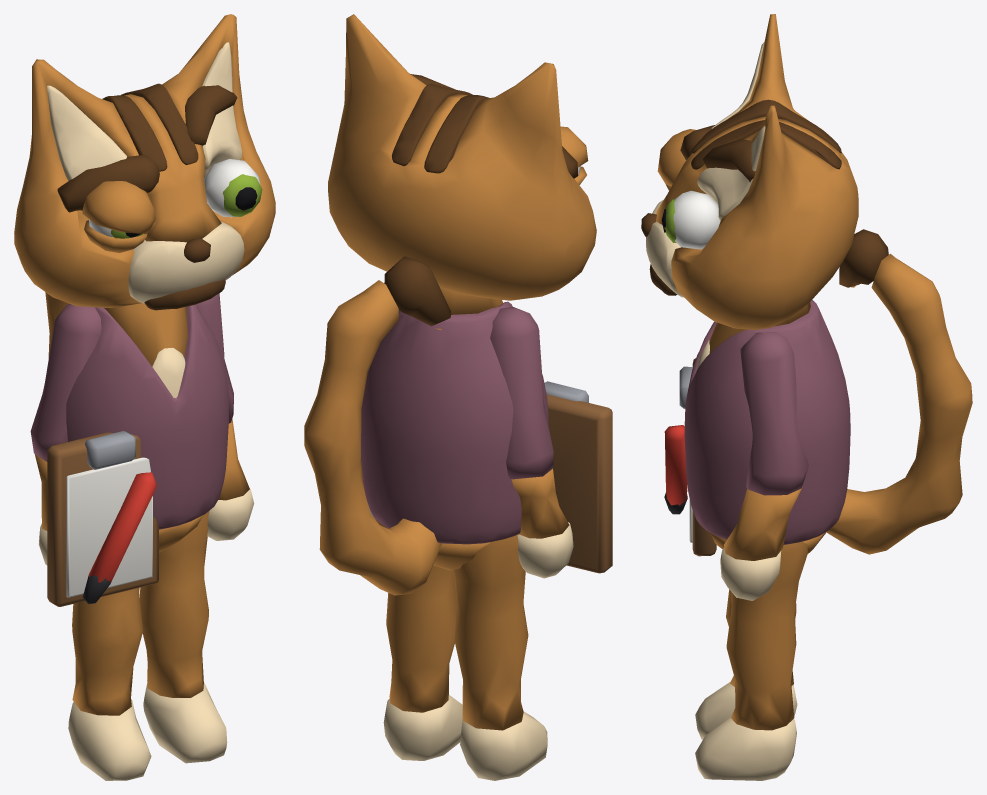
File: qasim.glb
3 views of the same model, side by side, from view 1: azimuth 30°, elevation 25°; view 2: azimuth 150°, elevation 25°; view 3: azimuth 270°, elevation 25° (orthographic). The views are drawn at different scales.
Parts seen in each view (by area): view 1: head_shell, garment, leg_l, leg_r, clip_paper, arm_r, snout_coat, clip_board, arm_l, ear_r_inner, torso, forehead_mark_coat (+14 smaller); view 2: head_shell, garment, tail_shape, leg_r, leg_l, arm_r, clip_board, forehead_mark_coat, tail_tip, torso, lid_r, clip_clip; view 3: head_shell, garment, tail_shape, leg_l, arm_l, forehead_mark_coat, eye_l_white, ear_l_inner, tail_tip, leg_r, clip_pen, snout_coat (+4 smaller).
Boxes of the visible parts, left/top/right/bottom form: head_shell: left=14, top=14, right=275, bottom=308; garment: left=66, top=304, right=228, bottom=529; leg_l: left=139, top=511, right=227, bottom=763; leg_r: left=68, top=587, right=151, bottom=780; clip_paper: left=66, top=457, right=152, bottom=597; arm_r: left=30, top=304, right=101, bottom=565; snout_coat: left=128, top=221, right=244, bottom=303; clip_board: left=47, top=432, right=158, bottom=606; arm_l: left=196, top=293, right=254, bottom=540; ear_r_inner: left=47, top=85, right=126, bottom=180; torso: left=104, top=303, right=203, bottom=552; forehead_mark_coat: left=102, top=83, right=198, bottom=171; head_shell: left=328, top=14, right=596, bottom=300; garment: left=361, top=301, right=548, bottom=544; tail_shape: left=304, top=280, right=442, bottom=595; leg_r: left=453, top=534, right=547, bottom=780; leg_l: left=376, top=520, right=462, bottom=760; arm_r: left=490, top=307, right=573, bottom=578; clip_board: left=546, top=394, right=612, bottom=573; forehead_mark_coat: left=392, top=83, right=489, bottom=173; tail_tip: left=384, top=256, right=450, bottom=326; torso: left=386, top=287, right=502, bottom=570; lid_r: left=560, top=126, right=588, bottom=167; clip_clip: left=544, top=381, right=588, bottom=402; head_shell: left=656, top=14, right=858, bottom=330; garment: left=684, top=299, right=850, bottom=544; tail_shape: left=826, top=253, right=972, bottom=554; leg_l: left=695, top=541, right=807, bottom=780; arm_l: left=720, top=332, right=808, bottom=600; forehead_mark_coat: left=691, top=99, right=841, bottom=169; eye_l_white: left=673, top=190, right=720, bottom=249; ear_l_inner: left=697, top=126, right=765, bottom=220; tail_tip: left=839, top=229, right=888, bottom=287; leg_r: left=695, top=589, right=797, bottom=739; clip_pen: left=664, top=425, right=687, bottom=505; snout_coat: left=646, top=199, right=683, bottom=297.
Size of the model in its own units: 0.4359 by 1.21 by 0.5259.
